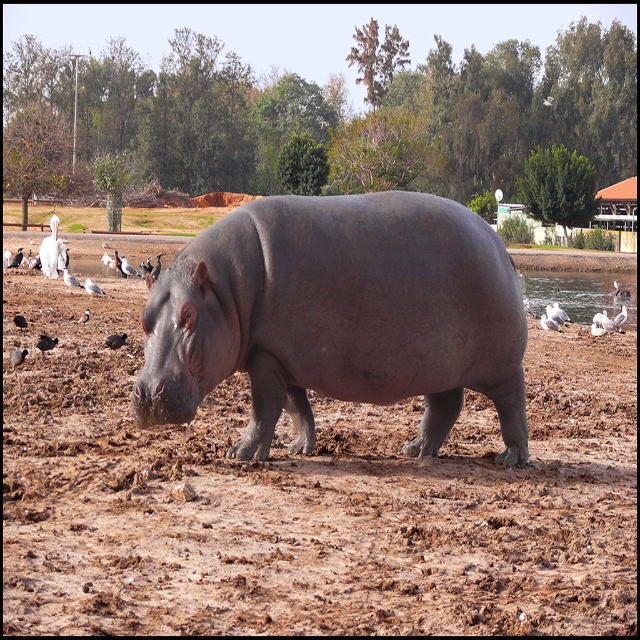Hippopotamus: (131, 189, 527, 465)
